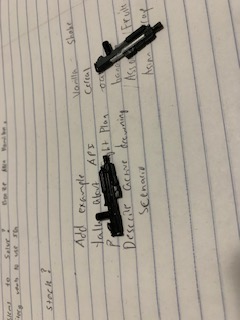rifle: (93, 21, 163, 77), (91, 154, 129, 238)
